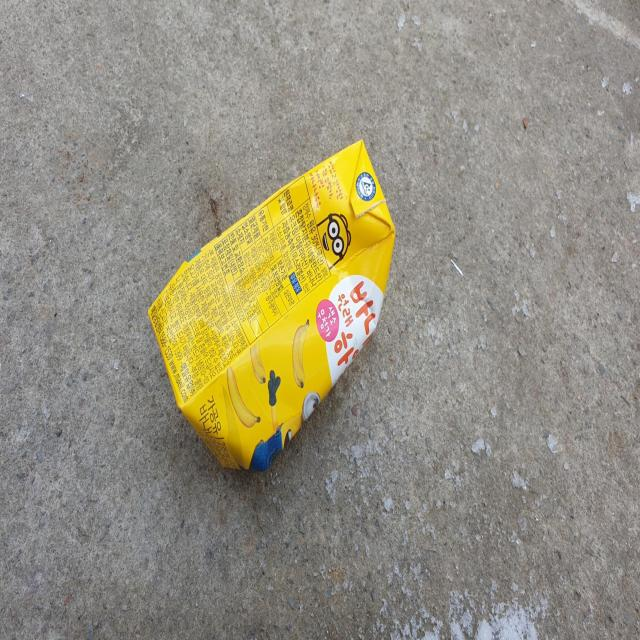paperpack: (149, 139, 395, 471)
